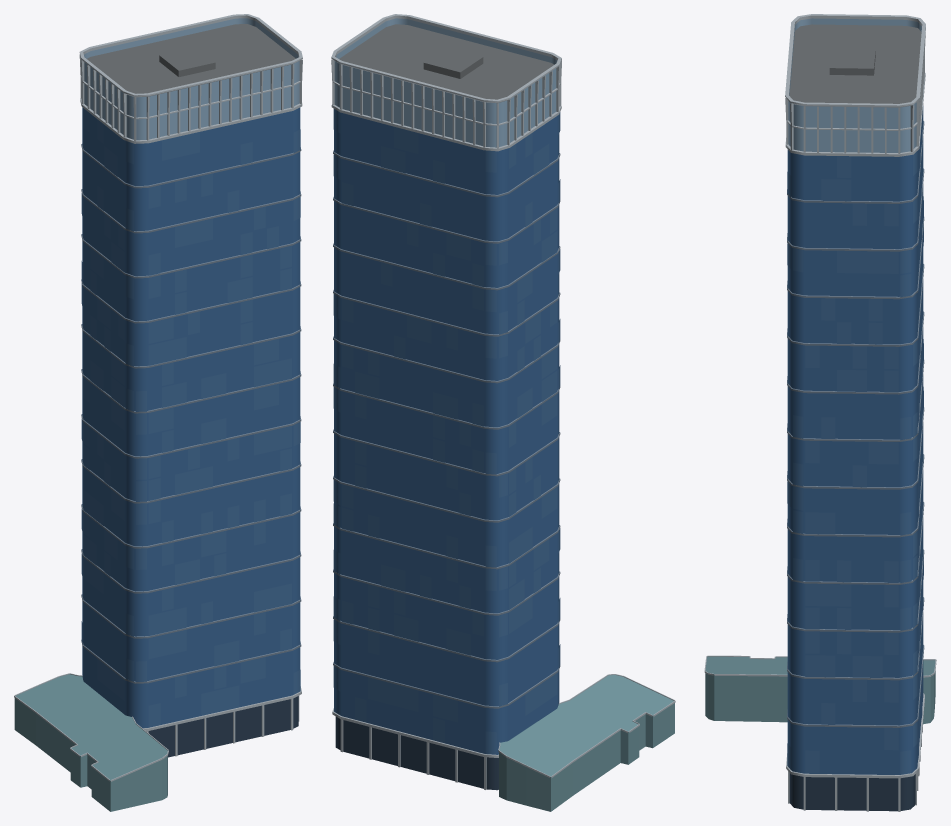
Rendered from brookfield-place-calgary-far.glb.
3 views of the same model, side by side, from view 1: azimuth 30°, elevation 25°; view 2: azimuth 150°, elevation 25°; view 3: azimuth 270°, elevation 25° (orthographic). The views are drawn at different scales.
Visible parts, largest first — view 1: brookfield-place-calgary-0-glass, brookfield-place-calgary-0-glow, brookfield-place-calgary-0-pglass, brookfield-place-calgary-0-frame, brookfield-place-calgary-0-light, brookfield-place-calgary-0-roof, brookfield-place-calgary-0-mullion, brookfield-place-calgary-0-lobby; view 2: brookfield-place-calgary-0-glass, brookfield-place-calgary-0-glow, brookfield-place-calgary-0-pglass, brookfield-place-calgary-0-frame, brookfield-place-calgary-0-light, brookfield-place-calgary-0-roof, brookfield-place-calgary-0-mullion, brookfield-place-calgary-0-lobby; view 3: brookfield-place-calgary-0-glass, brookfield-place-calgary-0-glow, brookfield-place-calgary-0-roof, brookfield-place-calgary-0-frame, brookfield-place-calgary-0-mullion, brookfield-place-calgary-0-light, brookfield-place-calgary-0-pglass, brookfield-place-calgary-0-lobby.
Boxes of the visible parts, x1=… form: brookfield-place-calgary-0-glass: x1=82, y1=107, x2=300, y2=728; brookfield-place-calgary-0-glow: x1=81, y1=108, x2=300, y2=727; brookfield-place-calgary-0-pglass: x1=14, y1=674, x2=167, y2=811; brookfield-place-calgary-0-frame: x1=14, y1=14, x2=302, y2=781; brookfield-place-calgary-0-light: x1=84, y1=18, x2=299, y2=140; brookfield-place-calgary-0-roof: x1=87, y1=24, x2=295, y2=93; brookfield-place-calgary-0-mullion: x1=81, y1=144, x2=301, y2=683; brookfield-place-calgary-0-lobby: x1=148, y1=696, x2=298, y2=757; brookfield-place-calgary-0-glass: x1=334, y1=112, x2=559, y2=754; brookfield-place-calgary-0-glow: x1=333, y1=109, x2=560, y2=754; brookfield-place-calgary-0-pglass: x1=499, y1=675, x2=674, y2=811; brookfield-place-calgary-0-frame: x1=331, y1=14, x2=675, y2=789; brookfield-place-calgary-0-light: x1=334, y1=18, x2=558, y2=147; brookfield-place-calgary-0-roof: x1=339, y1=24, x2=553, y2=99; brookfield-place-calgary-0-mullion: x1=333, y1=150, x2=560, y2=708; brookfield-place-calgary-0-lobby: x1=335, y1=716, x2=498, y2=790; brookfield-place-calgary-0-glass: x1=787, y1=106, x2=923, y2=774; brookfield-place-calgary-0-glow: x1=787, y1=121, x2=923, y2=774; brookfield-place-calgary-0-roof: x1=789, y1=24, x2=921, y2=103; brookfield-place-calgary-0-frame: x1=704, y1=14, x2=936, y2=811; brookfield-place-calgary-0-mullion: x1=787, y1=121, x2=924, y2=727; brookfield-place-calgary-0-light: x1=788, y1=18, x2=921, y2=152; brookfield-place-calgary-0-pglass: x1=705, y1=656, x2=935, y2=724; brookfield-place-calgary-0-lobby: x1=789, y1=773, x2=915, y2=811.
Size of the model in its own units: 92.85 by 247 by 73.4.
